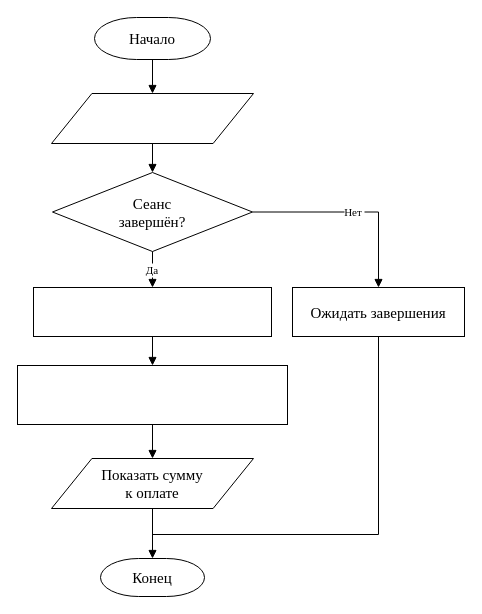
Some shapes in this 482 by 614 pixel diagram are drawn without their labels. The centre of each missing label's shape, as x and y in pixels:
C = ROUND(m × P / 60, 2): [152,394]
Начало и конец сеанса, цена часа: [152,118]
Округлить длительность вверх до m полных минут: [152,311]
